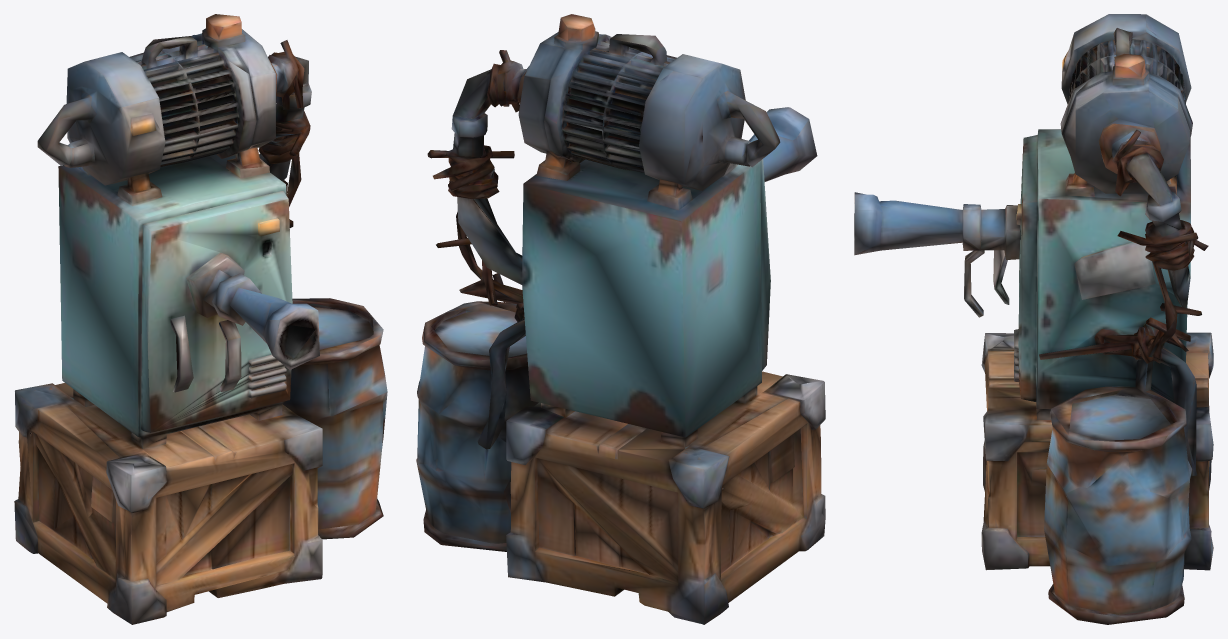
File: jiansuta-1.glb
The picture shows the model from 3 angles, left to right: view 1: azimuth 30°, elevation 25°; view 2: azimuth 150°, elevation 25°; view 3: azimuth 270°, elevation 25°; orthographic projection. The views are drawn at different scales.
Parts seen in each view (by area): view 1: node_0; view 2: node_0; view 3: node_0.
Part boxes in pixels (bbox=[...]): node_0: bbox=[14, 14, 387, 624]; node_0: bbox=[416, 14, 825, 624]; node_0: bbox=[854, 14, 1213, 624].
Size of the model in its own units: 0.6262 by 0.9046 by 0.5902.
1 material, 1 textured.
